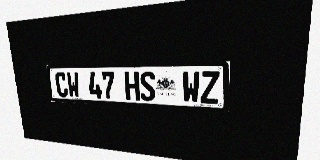4: (87, 72, 102, 99)
7: (101, 72, 116, 100)
C: (55, 72, 69, 97)
H: (124, 72, 140, 101)
S: (139, 71, 156, 101)
W: (182, 71, 200, 103), (66, 72, 80, 98)
Z: (200, 71, 219, 104)
